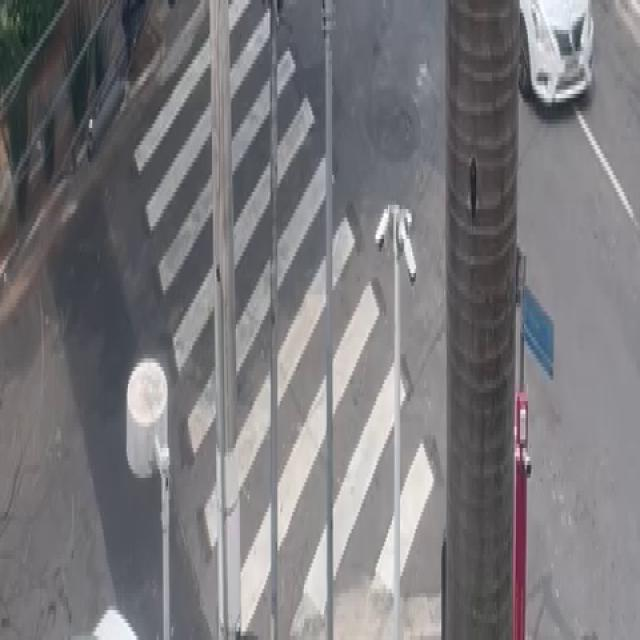car: (513, 0, 604, 117)
